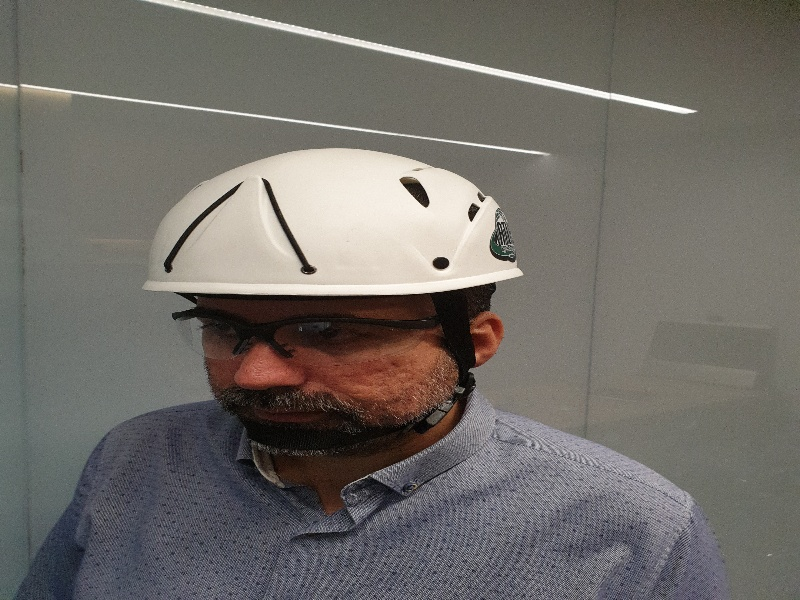Baret: (146, 147, 523, 298)
Gozluk: (172, 306, 491, 367)
